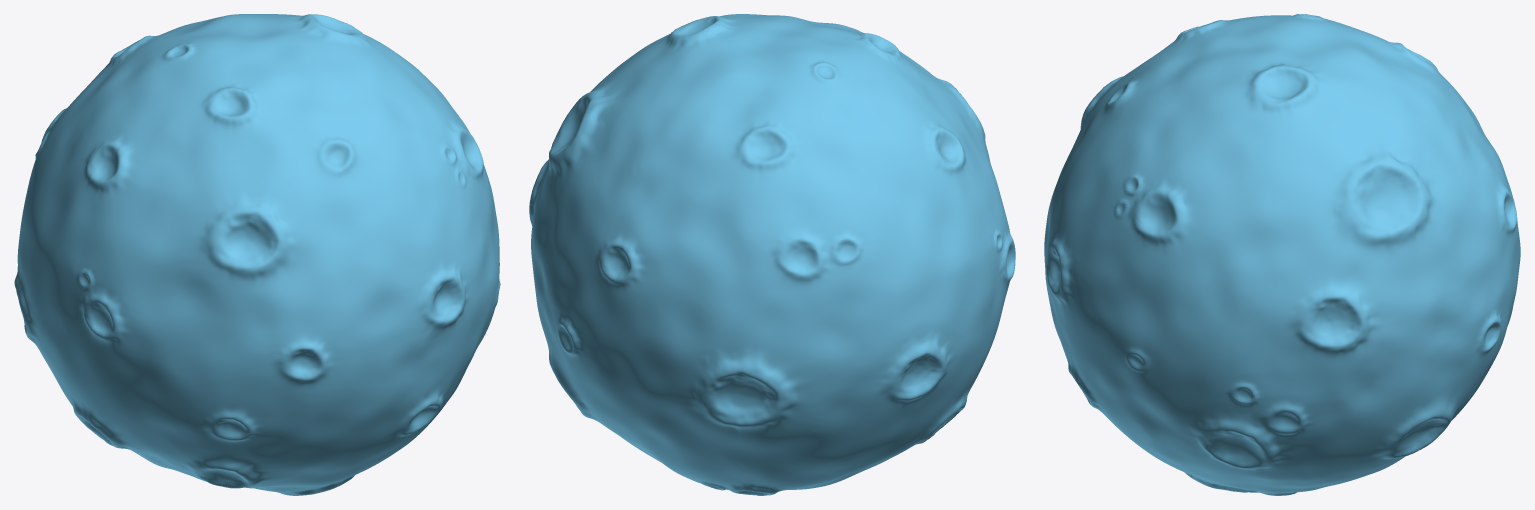
File: moon-draco.glb
3 views of the same model, side by side, from view 1: azimuth 30°, elevation 25°; view 2: azimuth 150°, elevation 25°; view 3: azimuth 270°, elevation 25° (orthographic).
Parts seen in each view (by area): view 1: Moon.002; view 2: Moon.002; view 3: Moon.002.
Boxes of the visible parts, <box> form: Moon.002: <box>14,14,500,495</box>; Moon.002: <box>529,14,1015,495</box>; Moon.002: <box>1044,14,1520,495</box>.
Size of the model in its own units: 2.43 by 2.43 by 2.41.
